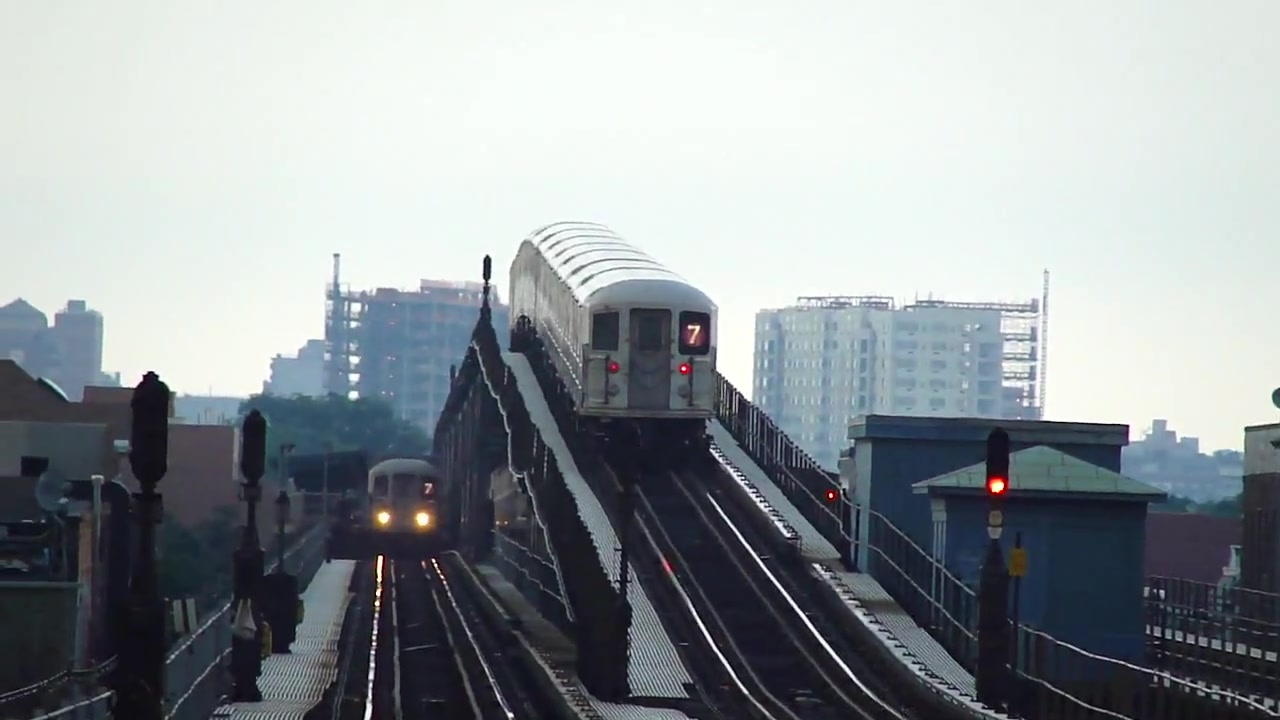train: (510, 221, 724, 462)
